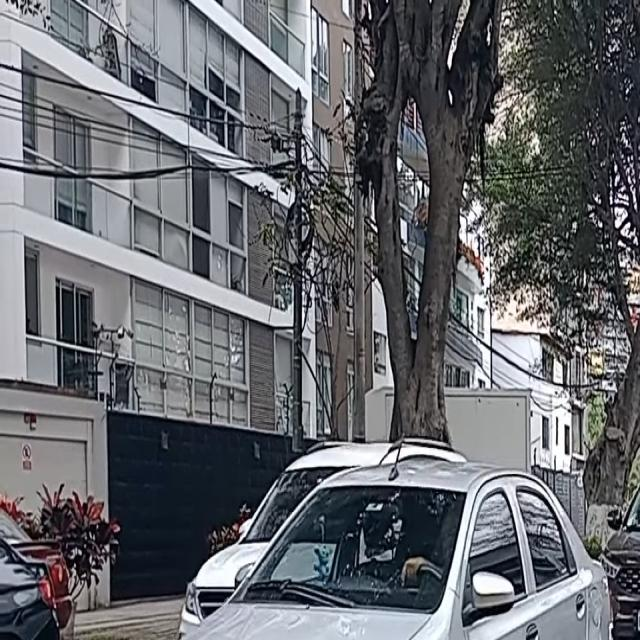car: (126, 458, 614, 640), (180, 442, 469, 640), (600, 458, 640, 640)
